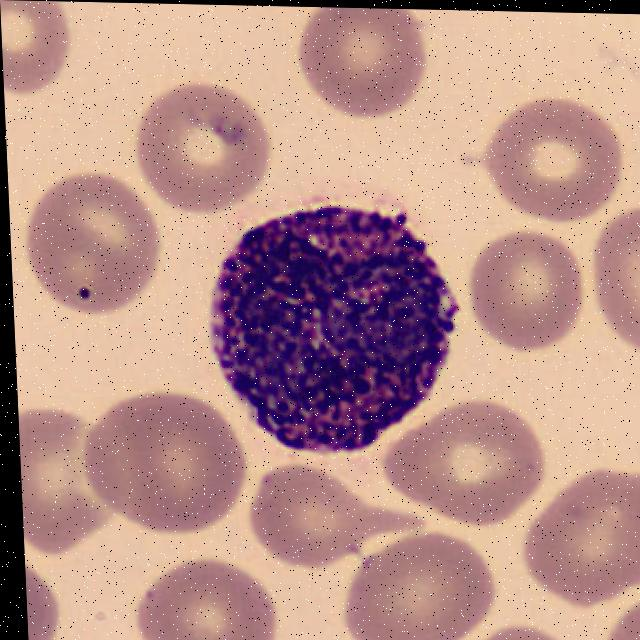basophil: (192, 196, 484, 450)
rbc: (368, 382, 557, 523), (79, 385, 252, 537), (124, 77, 288, 214), (24, 178, 173, 321), (474, 90, 627, 222), (333, 527, 505, 640), (241, 456, 405, 571), (18, 398, 123, 573), (517, 463, 640, 606), (463, 232, 590, 353), (298, 7, 435, 119), (131, 554, 283, 640), (586, 188, 640, 375), (0, 0, 89, 108), (25, 550, 71, 640), (483, 606, 558, 640), (595, 585, 640, 640)
